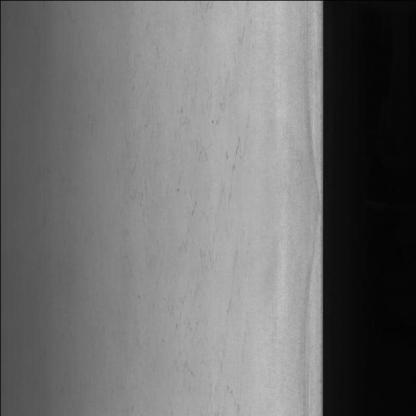silk_spot: (134, 65, 247, 416)
